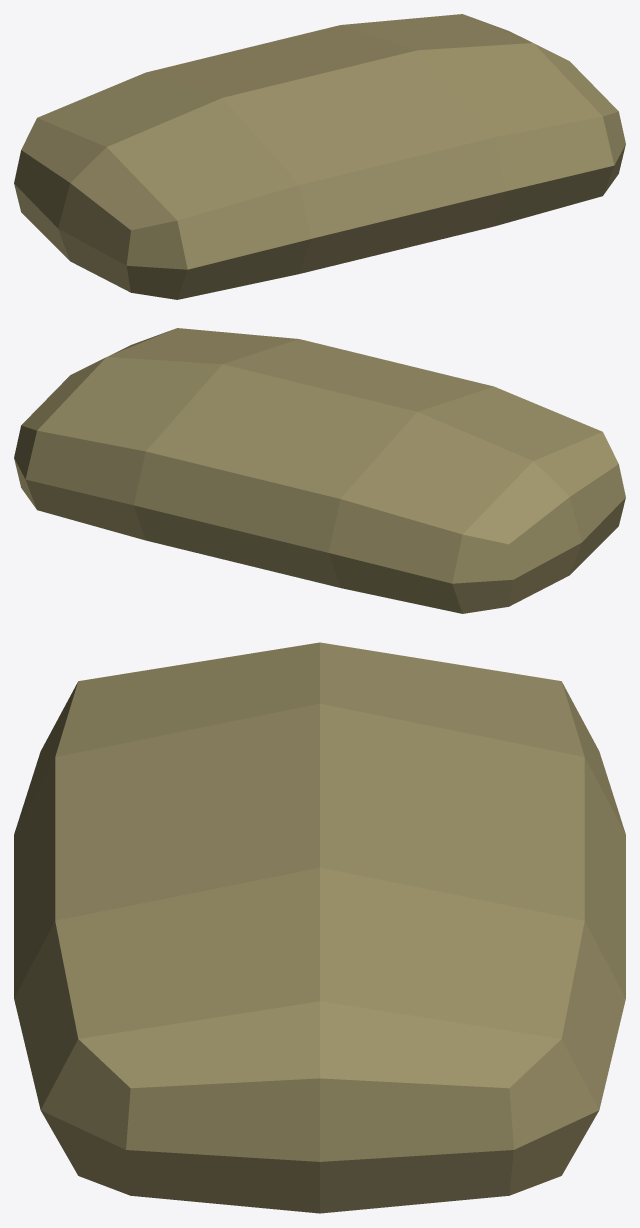
The model's file is Sack_1.fbx.
The picture shows the model from 3 angles, top to bottom: view 1: azimuth 30°, elevation 25°; view 2: azimuth 150°, elevation 25°; view 3: azimuth 270°, elevation 25°; orthographic projection. The views are drawn at different scales.
Visible parts, largest first — view 1: Sack_1; view 2: Sack_1; view 3: Sack_1.
Part boxes in pixels (x1=…): Sack_1: x1=14, y1=14, x2=625, y2=299; Sack_1: x1=14, y1=328, x2=625, y2=613; Sack_1: x1=14, y1=642, x2=625, y2=1213.
Bounding box in the file's own units: 72.05 × 17.98 × 42.31.
